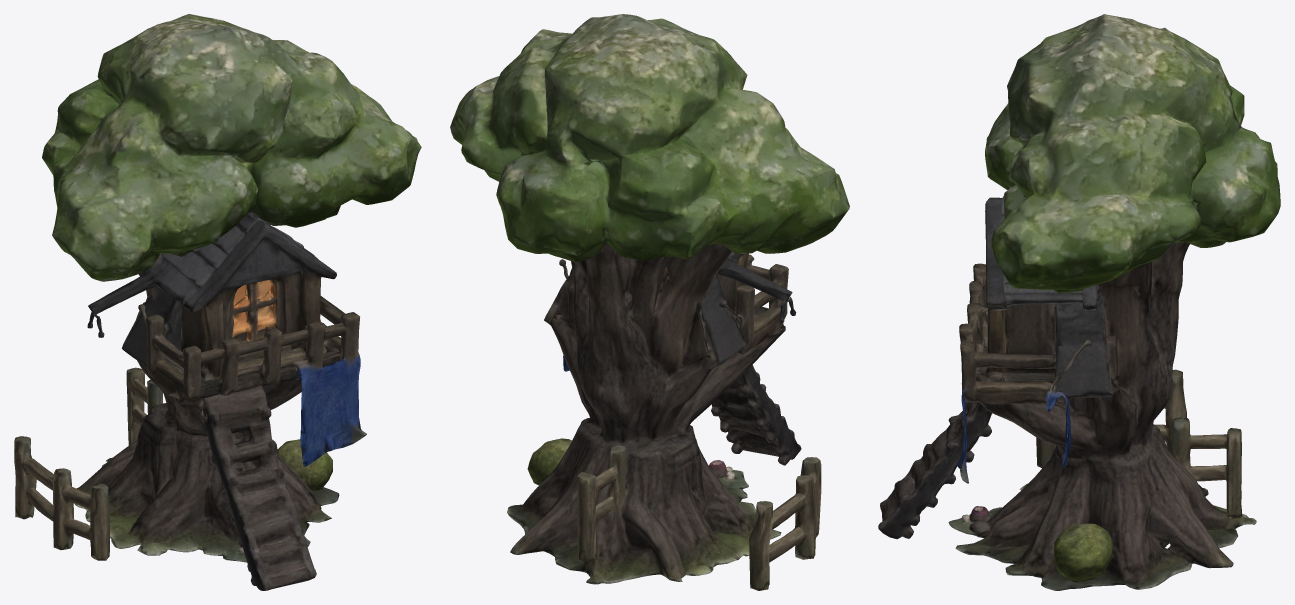
Rendered from tree_house.glb.
3 views of the same model, side by side, from view 1: azimuth 30°, elevation 25°; view 2: azimuth 150°, elevation 25°; view 3: azimuth 270°, elevation 25° (orthographic). The views are drawn at different scales.
Visible parts, largest first — view 1: tree_house_s7_fit; view 2: tree_house_s7_fit; view 3: tree_house_s7_fit.
Boxes of the visible parts, x1=… form: tree_house_s7_fit: x1=14, y1=14, x2=421, y2=590; tree_house_s7_fit: x1=450, y1=14, x2=849, y2=590; tree_house_s7_fit: x1=878, y1=14, x2=1280, y2=590.
Size of the model in its own units: 3.84 by 5.03 by 3.62.
Materials: 1 (1 with a texture image).
